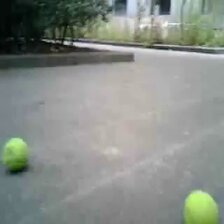tennis: (182, 192, 219, 224), (1, 138, 29, 171)
